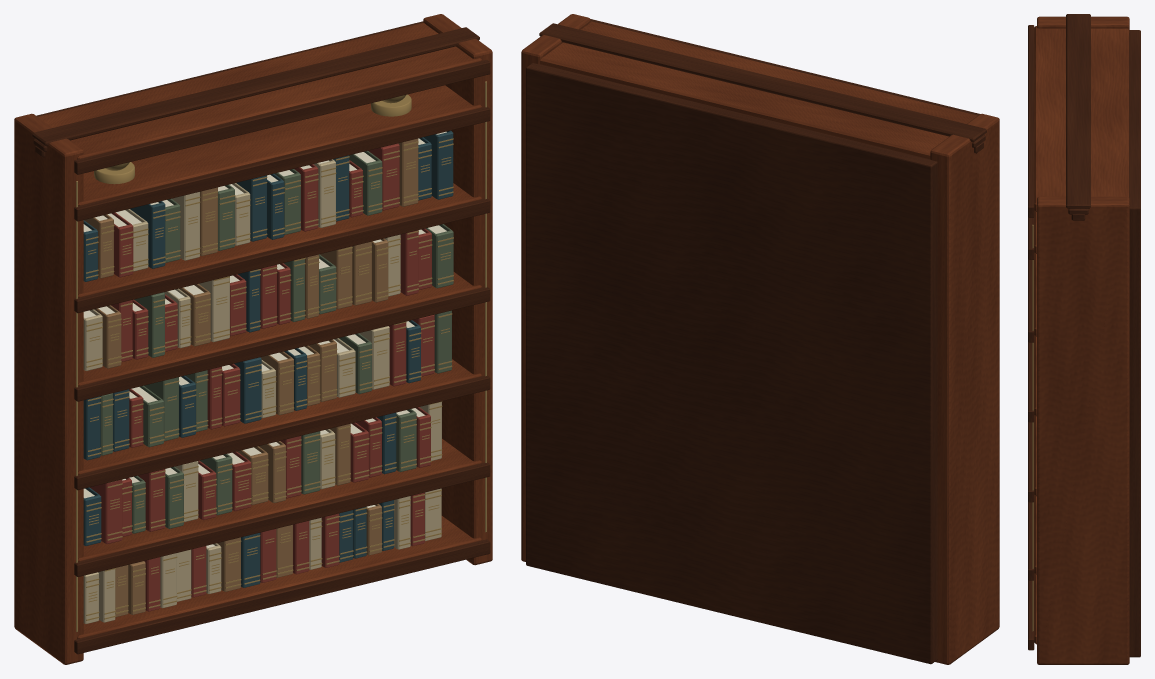
Rendered from bookcase-right.glb.
3 renders of one model, left to right at view 1: azimuth 30°, elevation 25°; view 2: azimuth 150°, elevation 25°; view 3: azimuth 270°, elevation 25°, orthographic. The views are drawn at different scales.
Visible parts, largest first — view 1: part::bookcase-right/library-pilaster-001, part::bookcase-right/library-pilaster-002, part::bookcase-right/library-solid-shelf-007, part::bookcase-right/library-solid-shelf-006, part::bookcase-right/library-crown2-001, part::bookcase-right/library-shelf-lip-007, part::bookcase-right/library-shelf-lip-001, part::bookcase-right/library-shelf-lip-002, part::bookcase-right/library-shelf-lip-004, part::bookcase-right/library-shelf-lip-006, part::bookcase-right/library-shelf-lip-003, part::bookcase-right/library-shelf-lip-005 (+108 smaller); view 2: part::bookcase-right/library-shadow-backing-001, part::bookcase-right/library-pilaster-001, part::bookcase-right/library-solid-shelf-007, part::bookcase-right/library-crown2-001, part::bookcase-right/library-pilaster-002, part::bookcase-right/library-shelf-lip-007; view 3: part::bookcase-right/library-pilaster-002, part::bookcase-right/library-solid-shelf-007, part::bookcase-right/library-shadow-backing-001, part::bookcase-right/library-crown2-001, part::bookcase-right/library-shelf-lip-007, part::bookcase-right/library-pilaster-001, part::bookcase-right/library-pilaster-brass-flute-002, part::bookcase-right/library-shelf-lip-005, part::bookcase-right/library-shelf-lip-003, part::bookcase-right/library-shelf-lip-004, part::bookcase-right/library-shelf-lip-002, part::bookcase-right/library-shelf-lip-001 (+6 smaller).
Boxes of the visible parts, box(x1,y1,x2,y2) form: part::bookcase-right/library-pilaster-001: box(14, 113, 83, 664); part::bookcase-right/library-pilaster-002: box(423, 14, 492, 565); part::bookcase-right/library-solid-shelf-007: box(38, 23, 481, 159); part::bookcase-right/library-solid-shelf-006: box(78, 85, 481, 205); part::bookcase-right/library-crown2-001: box(32, 27, 479, 146); part::bookcase-right/library-shelf-lip-007: box(74, 60, 490, 174); part::bookcase-right/library-shelf-lip-001: box(74, 539, 490, 654); part::bookcase-right/library-shelf-lip-002: box(74, 462, 490, 576); part::bookcase-right/library-shelf-lip-004: box(74, 287, 490, 401); part::bookcase-right/library-shelf-lip-006: box(74, 106, 490, 221); part::bookcase-right/library-shelf-lip-003: box(74, 375, 490, 490); part::bookcase-right/library-shelf-lip-005: box(74, 198, 490, 313); part::bookcase-right/library-shadow-backing-001: box(526, 63, 937, 664); part::bookcase-right/library-pilaster-001: box(930, 113, 999, 664); part::bookcase-right/library-solid-shelf-007: box(540, 21, 977, 159); part::bookcase-right/library-crown2-001: box(539, 23, 986, 142); part::bookcase-right/library-pilaster-002: box(521, 14, 590, 561); part::bookcase-right/library-shelf-lip-007: box(590, 19, 979, 115); part::bookcase-right/library-pilaster-002: box(1037, 196, 1129, 664); part::bookcase-right/library-solid-shelf-007: box(1034, 26, 1128, 211); part::bookcase-right/library-shadow-backing-001: box(1129, 30, 1140, 657); part::bookcase-right/library-crown2-001: box(1066, 14, 1090, 208); part::bookcase-right/library-shelf-lip-007: box(1028, 25, 1034, 217); part::bookcase-right/library-pilaster-001: box(1037, 16, 1129, 32); part::bookcase-right/library-pilaster-brass-flute-002: box(1032, 224, 1033, 631); part::bookcase-right/library-shelf-lip-005: box(1028, 259, 1034, 342); part::bookcase-right/library-shelf-lip-003: box(1028, 422, 1034, 502); part::bookcase-right/library-shelf-lip-004: box(1028, 342, 1034, 422); part::bookcase-right/library-shelf-lip-002: box(1028, 502, 1034, 580); part::bookcase-right/library-shelf-lip-001: box(1028, 580, 1034, 650).
Size of the model in its own units: 2.83 by 3.19 by 0.705.
Materials: 9 (2 with a texture image).
